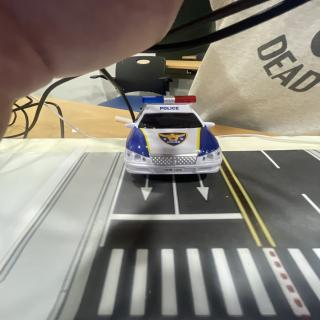Police_car: (124, 96, 222, 174)
